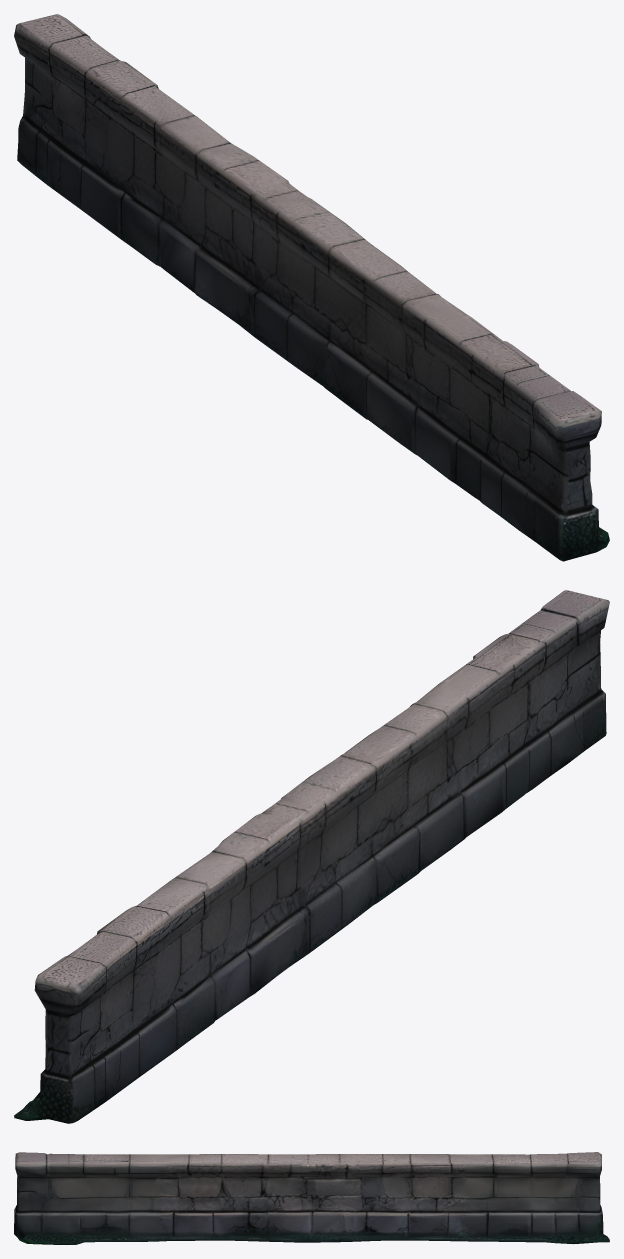
File: Wall.fbx
3 views of the same model, one above another, from view 1: azimuth 30°, elevation 25°; view 2: azimuth 150°, elevation 25°; view 3: azimuth 270°, elevation 25° (orthographic). The views are drawn at different scales.
Visible parts, largest first — view 1: meshes[0]; view 2: meshes[0]; view 3: meshes[0].
Part boxes in pixels (x1,y1,x2,y2): meshes[0]: [14, 14, 609, 561]; meshes[0]: [14, 590, 609, 1123]; meshes[0]: [14, 1152, 609, 1244].
Size of the model in its own units: 6.63 by 13.13 by 90.79.
